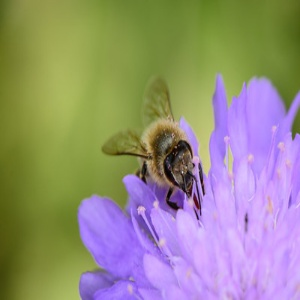bee: (100, 71, 210, 217)
